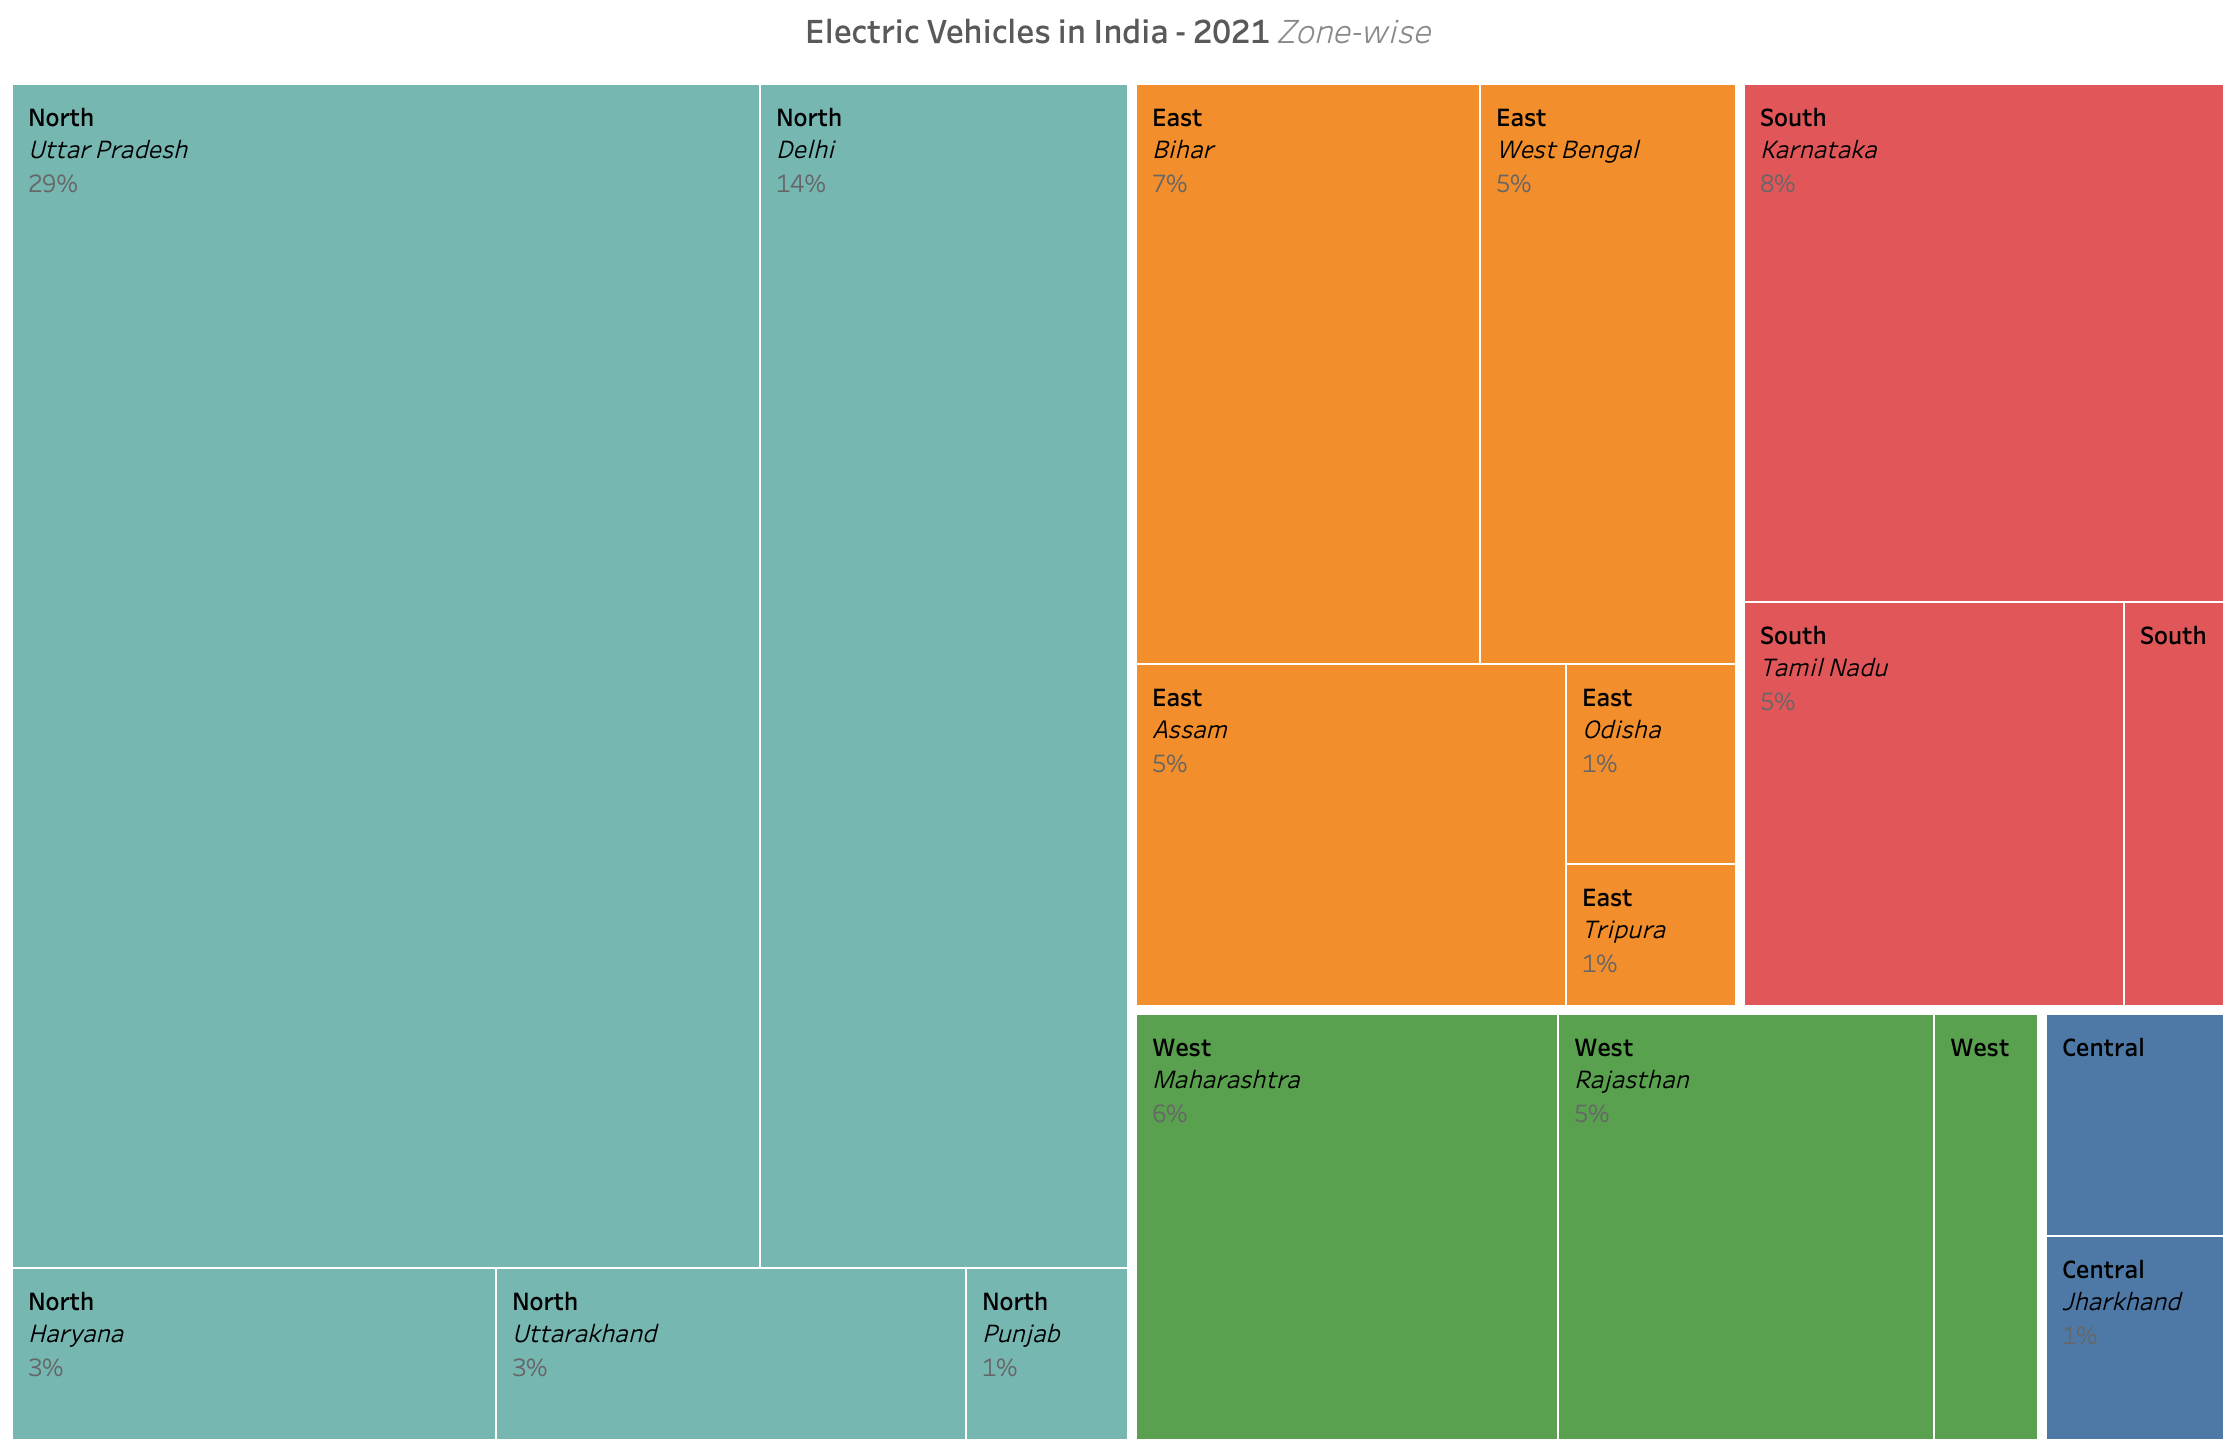

This screenshot's page, from the dashboard's own definition file:
{"tool":"tableau","page":{"name":"Zone-wise","canvas":[1000,1000],"units":"permille","ordinal":1},"visuals":[{"type":"title","box":[5.5,9.5,989.1,62.8]},{"type":"legend","title":"TM1","param":"[federated.1h4i9200o41wzu14zfeil0i64jp7].[none:Zone:nk]","box":[889,72.3,105.5,149.3]},{"type":"worksheet","title":"TM1","mark":"Automatic","box":[5.5,75.8,440.4,782]},{"type":"worksheet","title":"SB1","mark":"Pie","cols":["Calculation_6422555299345653766","Calculation_6422555299345612804"],"box":[447.2,78.2,440.4,783.2]},{"type":"legend","title":"SB1","param":"[federated.1h4i9200o41wzu14zfeil0i64jp7].[none:Zone:nk]\n[federated.1h4i9200o41wz","box":[891.8,229.9,101.4,447.9]}]}

Visuals, with their boxes on the dashboard's canvas, which has no fixed pixel size, in thousandths of its width and height (x1, y1, x2, y2). These are canvas units, not pixel positions in the 2240x1456 screenshot, which may show the page scaled, cropped or inside an application window:
title: <bbox>6, 10, 995, 72</bbox>
"TM1" legend: <bbox>889, 72, 994, 222</bbox>
"TM1" worksheet: <bbox>6, 76, 446, 858</bbox>
"SB1" worksheet (Pie marks): <bbox>447, 78, 888, 861</bbox>
"SB1" legend: <bbox>892, 230, 993, 678</bbox>
